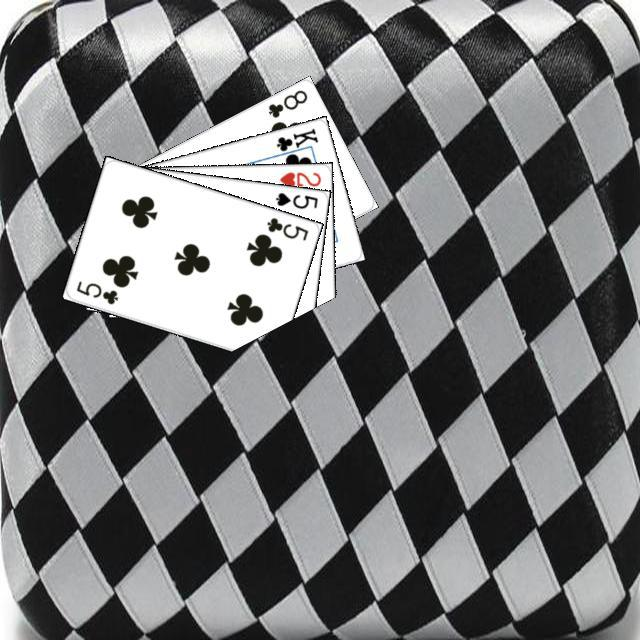2h: (275, 167, 323, 189)
5c: (71, 276, 120, 306), (262, 213, 310, 242)
5s: (270, 187, 319, 211)
8c: (263, 85, 309, 120)
Kc: (270, 123, 320, 159)
